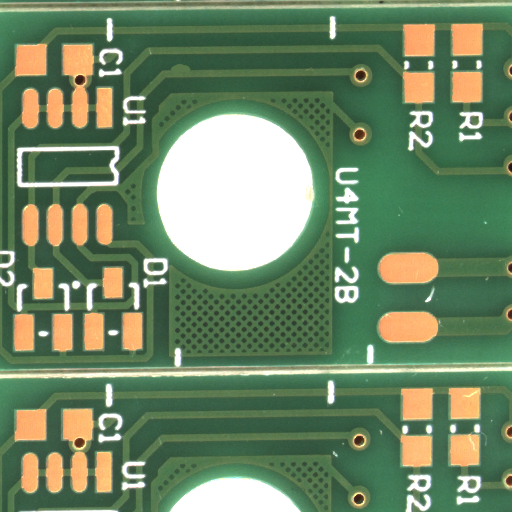Spur: (180, 67, 198, 75)
